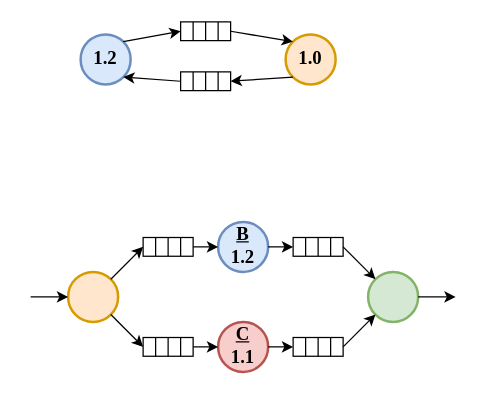
The diagram is 488 pixels wide and 395 high, and some of its shapes have lost their labels. Each missing label, with the centre of its shape:
A 1.3: [92,296]
D 1.4: [392,296]
